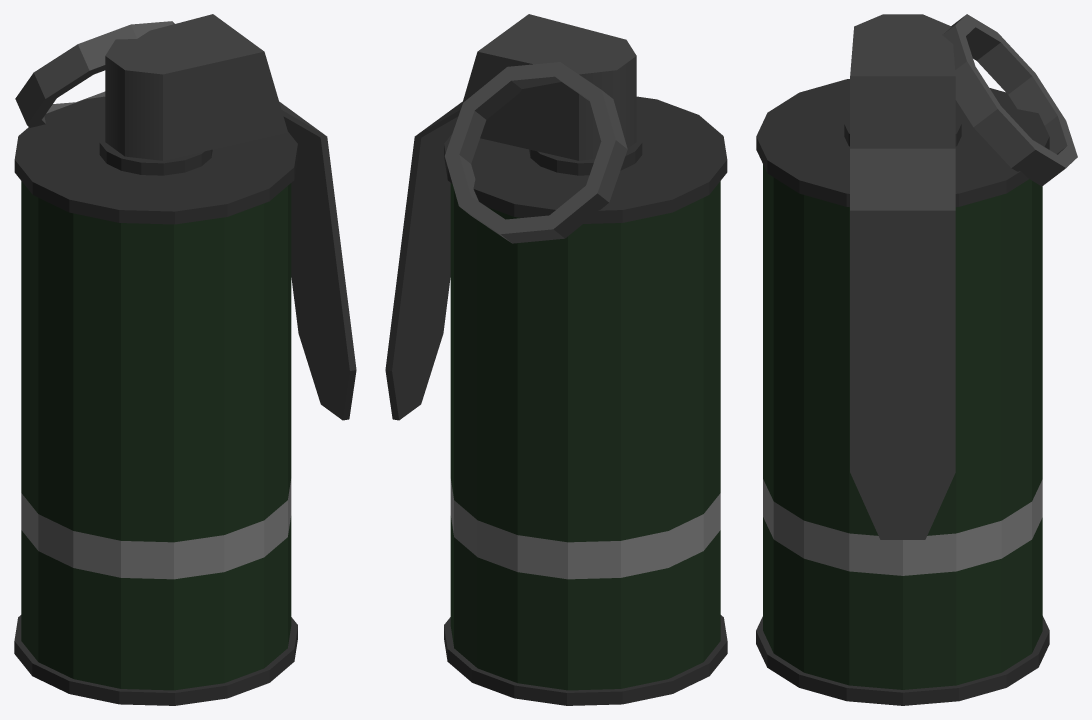
Rendered from Grenade_Smoke.fbx.
The picture shows the model from 3 angles, left to right: view 1: azimuth 30°, elevation 25°; view 2: azimuth 150°, elevation 25°; view 3: azimuth 270°, elevation 25°; orthographic projection. The views are drawn at different scales.
Parts seen in each view (by area): view 1: Cylinder; view 2: Cylinder; view 3: Cylinder.
Boxes of the visible parts, bbox=[...] form: Cylinder: bbox=[14, 14, 356, 705]; Cylinder: bbox=[385, 14, 727, 705]; Cylinder: bbox=[756, 14, 1077, 705].
Bounding box in the file's own units: 12.97 × 24.42 × 11.51.
